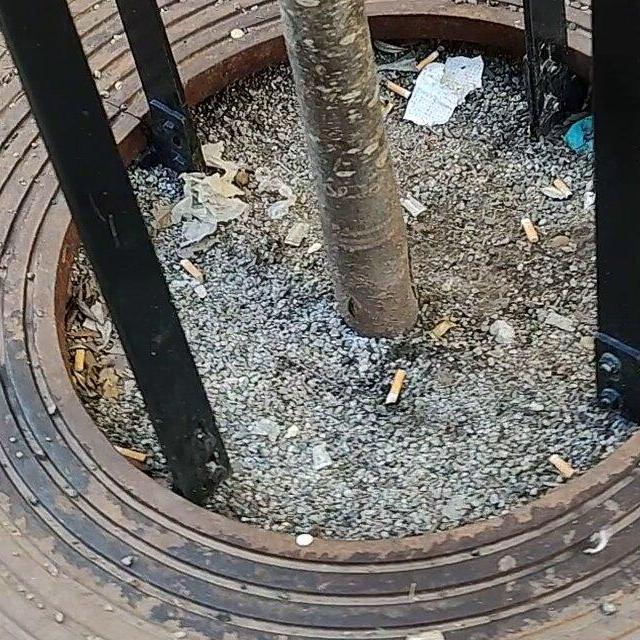Cigarette Butt: (383, 368, 404, 410), (548, 453, 580, 475), (383, 74, 409, 101), (521, 213, 540, 248), (178, 257, 202, 281), (113, 448, 149, 463), (74, 343, 89, 376), (418, 49, 437, 71), (555, 176, 574, 196)
